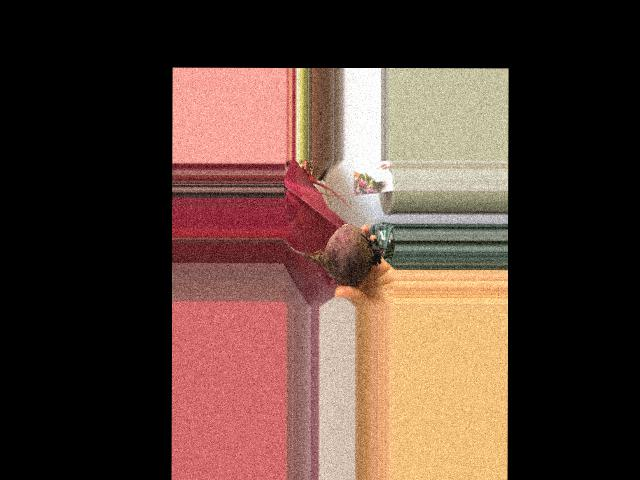beet: (284, 224, 394, 285)
